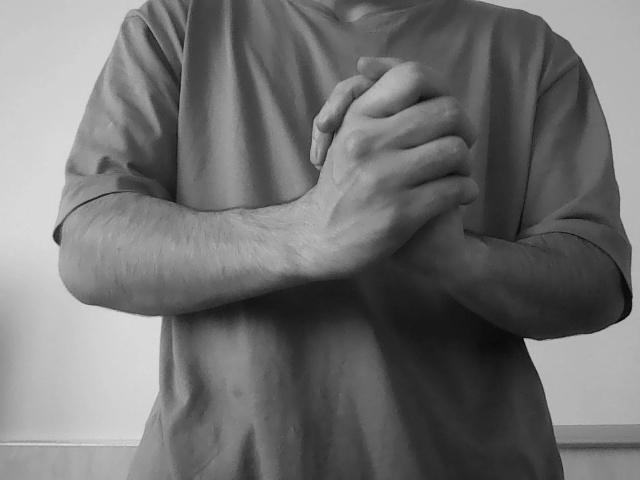friend: (322, 68, 482, 280)
